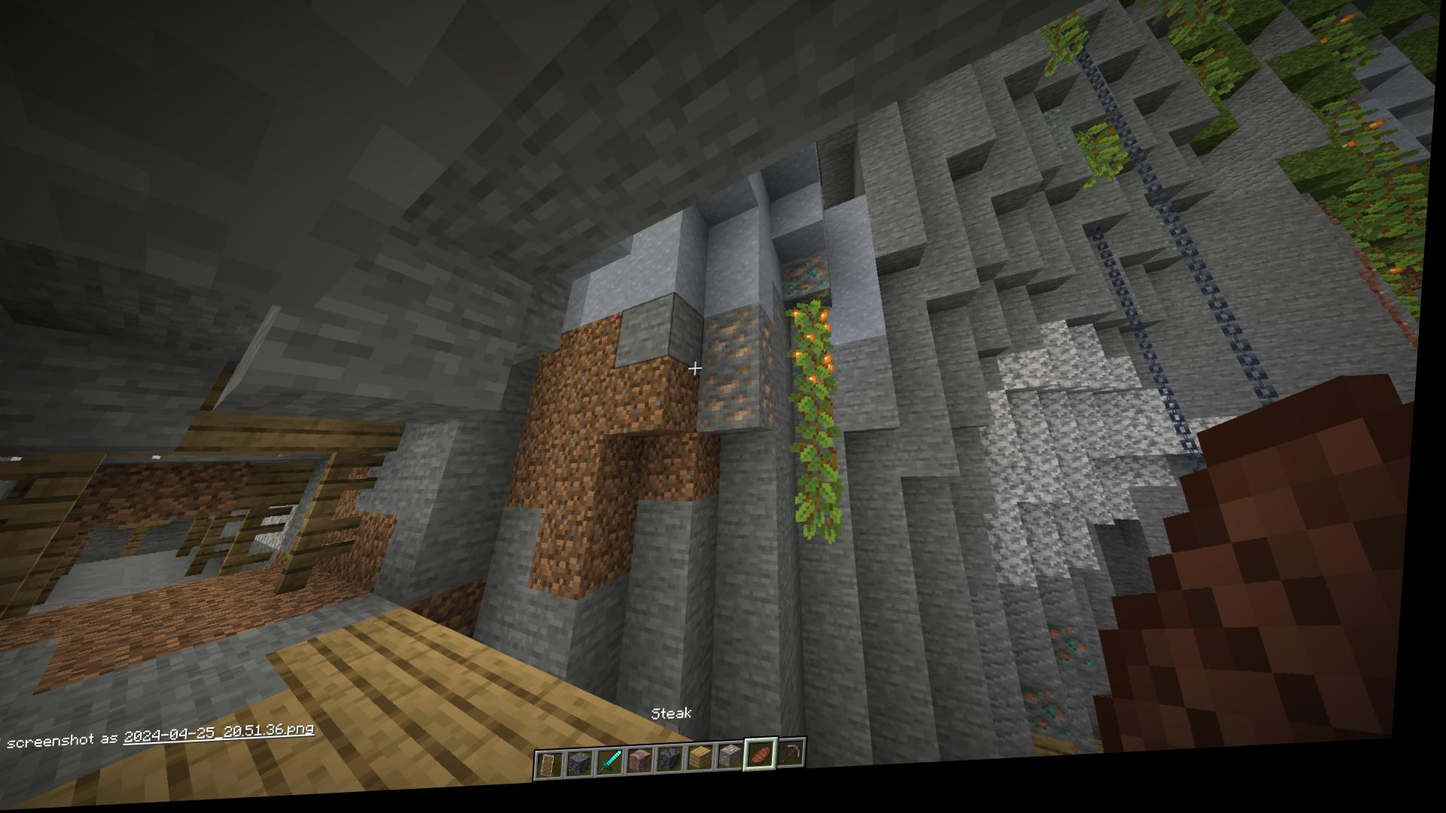iron ore: (704, 374, 760, 438), (706, 319, 763, 369), (759, 380, 783, 434), (760, 327, 782, 379)
